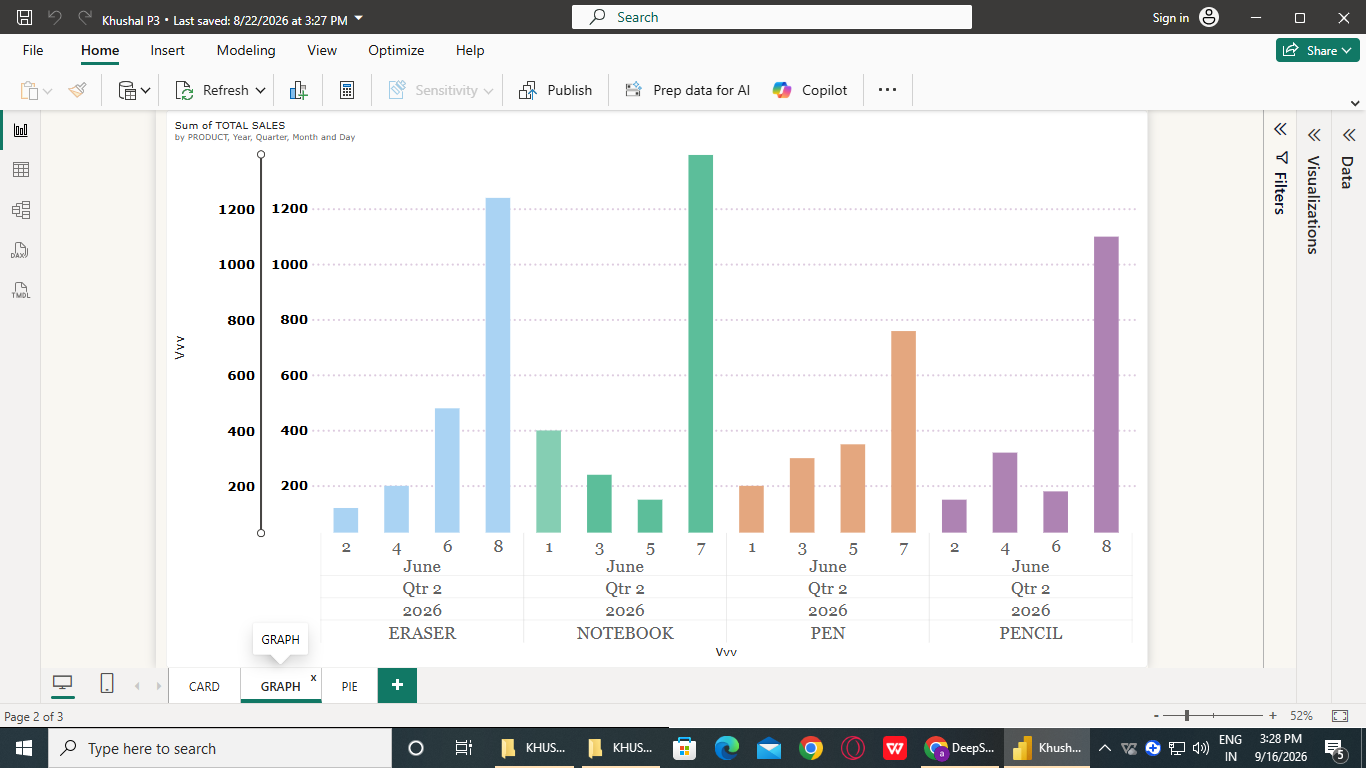

The dashboard page shown, as its layout file describes it:
{"tool":"powerbi","page":{"name":"GRAPH","canvas":[1920,1080],"ordinal":1},"visuals":[{"type":"lineClusteredColumnComboChart","fields":{"Category":["Sheet1.PRODUCT","Sheet1.DATE.Variation.Date Hierarchy.Year","Sheet1.DATE.Variation.Date Hierarchy.Quarter","Sheet1.DATE.Variation.Date Hierarchy.Month","Sheet1.DATE.Variation.Date Hierarchy.Day"],"Y":["Sum(Sheet1.TOTAL SALES)"]},"box":[20.2,0,1900,1080],"z":0}]}

Visuals, with their boxes on the page's 1920x1080 design canvas (x1, y1, x2, y2). These are canvas units, not pixel positions in the 1366x768 screenshot, which may show the page scaled, cropped or inside an application window:
lineClusteredColumnComboChart - Sheet1.PRODUCT x Sheet1.DATE.Variation.Date Hierarchy.Year: {"left": 20, "top": 0, "right": 1920, "bottom": 1080}
